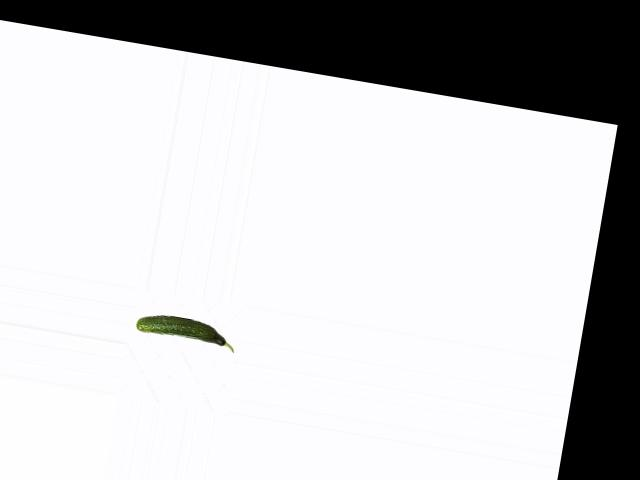cucumber: (135, 310, 239, 352)
